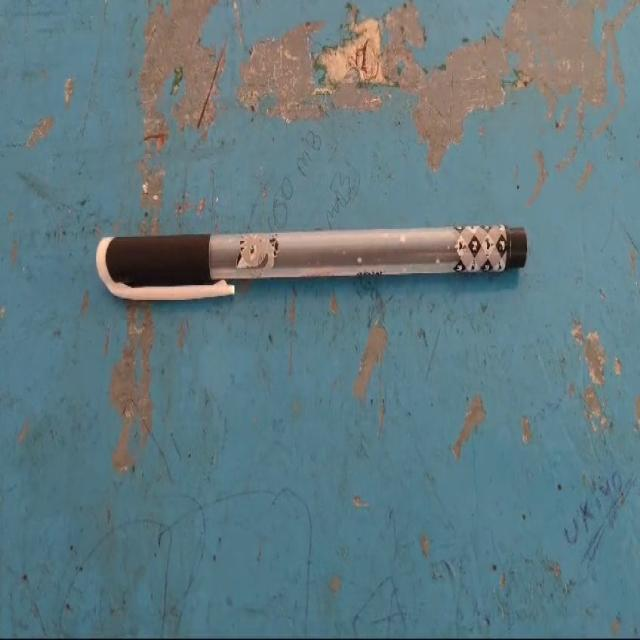pen: (55, 141, 567, 408)
